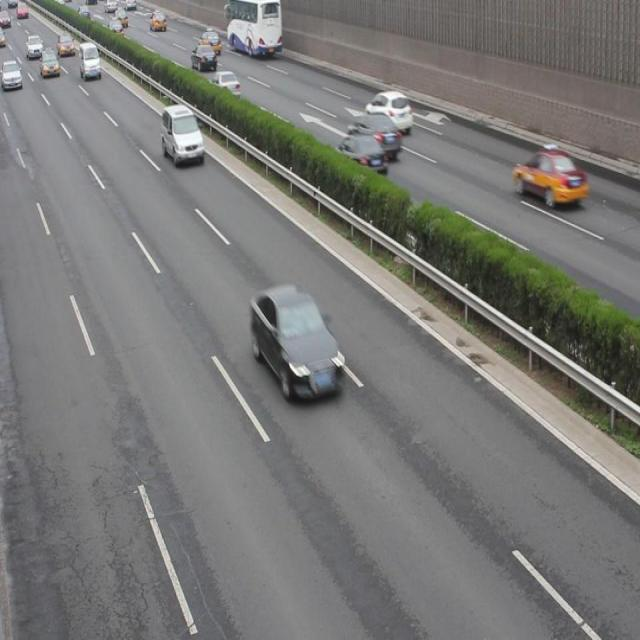car: (250, 283, 343, 403), (512, 142, 586, 206), (347, 110, 400, 158), (333, 132, 388, 178), (365, 89, 412, 133), (210, 69, 240, 98), (190, 43, 217, 71), (197, 26, 221, 56), (40, 48, 60, 79), (1, 60, 22, 89), (56, 33, 74, 55)
truck: (160, 106, 203, 162), (79, 43, 100, 79)
van: (224, 1, 282, 56)
